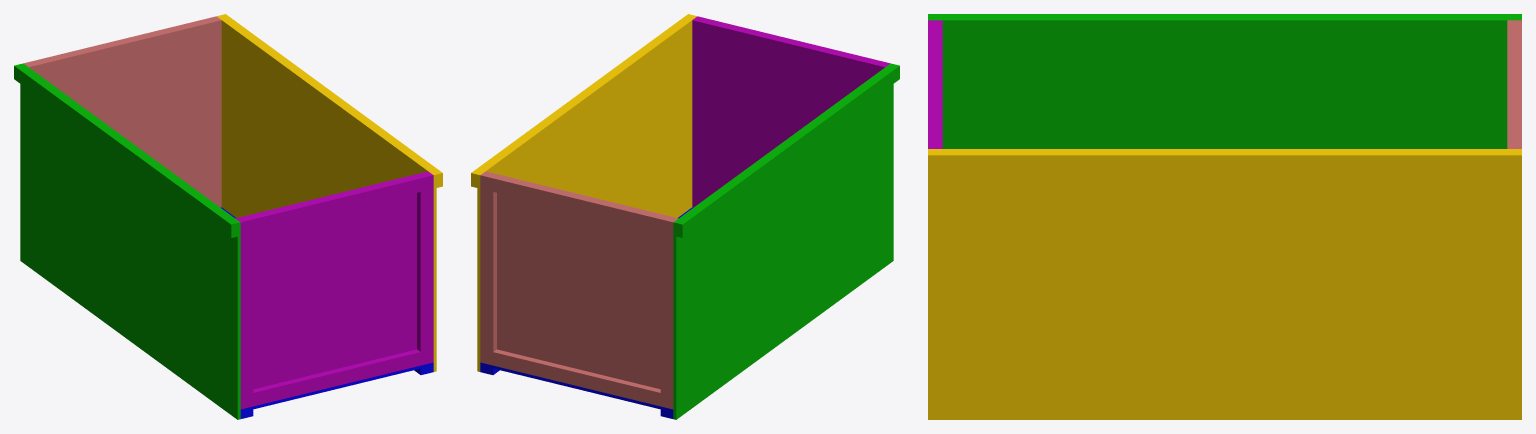
File: result.glb
3 views of the same model, side by side, from view 1: azimuth 30°, elevation 25°; view 2: azimuth 150°, elevation 25°; view 3: azimuth 270°, elevation 25° (orthographic). The views are drawn at different scales.
Visible parts, largest first — view 1: 3dd20a9e-ad63-4c78-998f-4b0f58489bc9__Box_6, 2a6679ef-c102-4292-b677-e9604cd121b8__Box_3, e09750bf-549a-44f2-8314-3569843e6198__undefined, a1504ffa-b2bd-4bb2-915f-8ce8a50297c1__undefined, aeaa9244-7c07-43ea-878d-e91482ab4630__Box_7, 1e0f33eb-c1f9-421e-902d-f854a2e10fda__undefined, 3ae2a558-bf11-4bba-8b4e-22b31e15646c__undefined, 1bc9ea82-00c4-49dd-913e-5a0ef59977bc__Box_5, ce133864-a48a-4db3-a50a-0bb4326c9bfe__Box_4, 797b8713-e815-49ea-8b60-1ece3c655007__undefined, 331b4540-fa38-491d-a05d-2c6cf8f81ffe__Box, d1a27494-080d-41db-ae6f-f62464c547c0__undefined; view 2: 3dd20a9e-ad63-4c78-998f-4b0f58489bc9__Box_6, a1504ffa-b2bd-4bb2-915f-8ce8a50297c1__undefined, e09750bf-549a-44f2-8314-3569843e6198__undefined, 2a6679ef-c102-4292-b677-e9604cd121b8__Box_3, aeaa9244-7c07-43ea-878d-e91482ab4630__Box_7, d195cb2d-9b40-4dac-879c-8e420c559182__undefined, d1a27494-080d-41db-ae6f-f62464c547c0__undefined, 1f71b9b4-b170-4ce0-9513-49743af9098d__undefined, e10dac62-d5da-44f5-85ab-88f461c87800__undefined, 797b8713-e815-49ea-8b60-1ece3c655007__undefined, 331b4540-fa38-491d-a05d-2c6cf8f81ffe__Box, 3ae2a558-bf11-4bba-8b4e-22b31e15646c__undefined; view 3: e09750bf-549a-44f2-8314-3569843e6198__undefined, 3dd20a9e-ad63-4c78-998f-4b0f58489bc9__Box_6, 797b8713-e815-49ea-8b60-1ece3c655007__undefined, aeaa9244-7c07-43ea-878d-e91482ab4630__Box_7, 3ae2a558-bf11-4bba-8b4e-22b31e15646c__undefined, d1a27494-080d-41db-ae6f-f62464c547c0__undefined, 2a6679ef-c102-4292-b677-e9604cd121b8__Box_3, a1504ffa-b2bd-4bb2-915f-8ce8a50297c1__undefined.
Boxes of the visible parts, x1,y1,x2,y2 form: 3dd20a9e-ad63-4c78-998f-4b0f58489bc9__Box_6: [20, 63, 240, 419]; 2a6679ef-c102-4292-b677-e9604cd121b8__Box_3: [235, 171, 429, 389]; e09750bf-549a-44f2-8314-3569843e6198__undefined: [217, 15, 436, 371]; a1504ffa-b2bd-4bb2-915f-8ce8a50297c1__undefined: [27, 19, 221, 207]; aeaa9244-7c07-43ea-878d-e91482ab4630__Box_7: [14, 64, 237, 237]; 1e0f33eb-c1f9-421e-902d-f854a2e10fda__undefined: [417, 172, 433, 365]; 3ae2a558-bf11-4bba-8b4e-22b31e15646c__undefined: [250, 176, 420, 232]; 1bc9ea82-00c4-49dd-913e-5a0ef59977bc__Box_5: [253, 349, 420, 406]; ce133864-a48a-4db3-a50a-0bb4326c9bfe__Box_4: [237, 216, 253, 409]; 797b8713-e815-49ea-8b60-1ece3c655007__undefined: [219, 14, 442, 187]; 331b4540-fa38-491d-a05d-2c6cf8f81ffe__Box: [221, 207, 433, 412]; d1a27494-080d-41db-ae6f-f62464c547c0__undefined: [36, 19, 206, 62]; 3dd20a9e-ad63-4c78-998f-4b0f58489bc9__Box_6: [673, 63, 893, 419]; a1504ffa-b2bd-4bb2-915f-8ce8a50297c1__undefined: [484, 171, 678, 389]; e09750bf-549a-44f2-8314-3569843e6198__undefined: [477, 15, 696, 371]; 2a6679ef-c102-4292-b677-e9604cd121b8__Box_3: [692, 19, 886, 207]; aeaa9244-7c07-43ea-878d-e91482ab4630__Box_7: [676, 64, 899, 237]; d195cb2d-9b40-4dac-879c-8e420c559182__undefined: [480, 172, 496, 365]; d1a27494-080d-41db-ae6f-f62464c547c0__undefined: [493, 176, 663, 232]; 1f71b9b4-b170-4ce0-9513-49743af9098d__undefined: [493, 349, 660, 406]; e10dac62-d5da-44f5-85ab-88f461c87800__undefined: [660, 216, 676, 409]; 797b8713-e815-49ea-8b60-1ece3c655007__undefined: [471, 14, 694, 187]; 331b4540-fa38-491d-a05d-2c6cf8f81ffe__Box: [480, 207, 692, 412]; 3ae2a558-bf11-4bba-8b4e-22b31e15646c__undefined: [707, 19, 877, 62]; e09750bf-549a-44f2-8314-3569843e6198__undefined: [928, 149, 1521, 419]; 3dd20a9e-ad63-4c78-998f-4b0f58489bc9__Box_6: [928, 18, 1521, 148]; 797b8713-e815-49ea-8b60-1ece3c655007__undefined: [928, 151, 1521, 173]; aeaa9244-7c07-43ea-878d-e91482ab4630__Box_7: [928, 14, 1521, 18]; 3ae2a558-bf11-4bba-8b4e-22b31e15646c__undefined: [928, 28, 938, 140]; d1a27494-080d-41db-ae6f-f62464c547c0__undefined: [1511, 28, 1521, 140]; 2a6679ef-c102-4292-b677-e9604cd121b8__Box_3: [938, 20, 942, 148]; a1504ffa-b2bd-4bb2-915f-8ce8a50297c1__undefined: [1507, 20, 1511, 148].
Bounding box in the file's own units: 592 × 526 × 1052.
